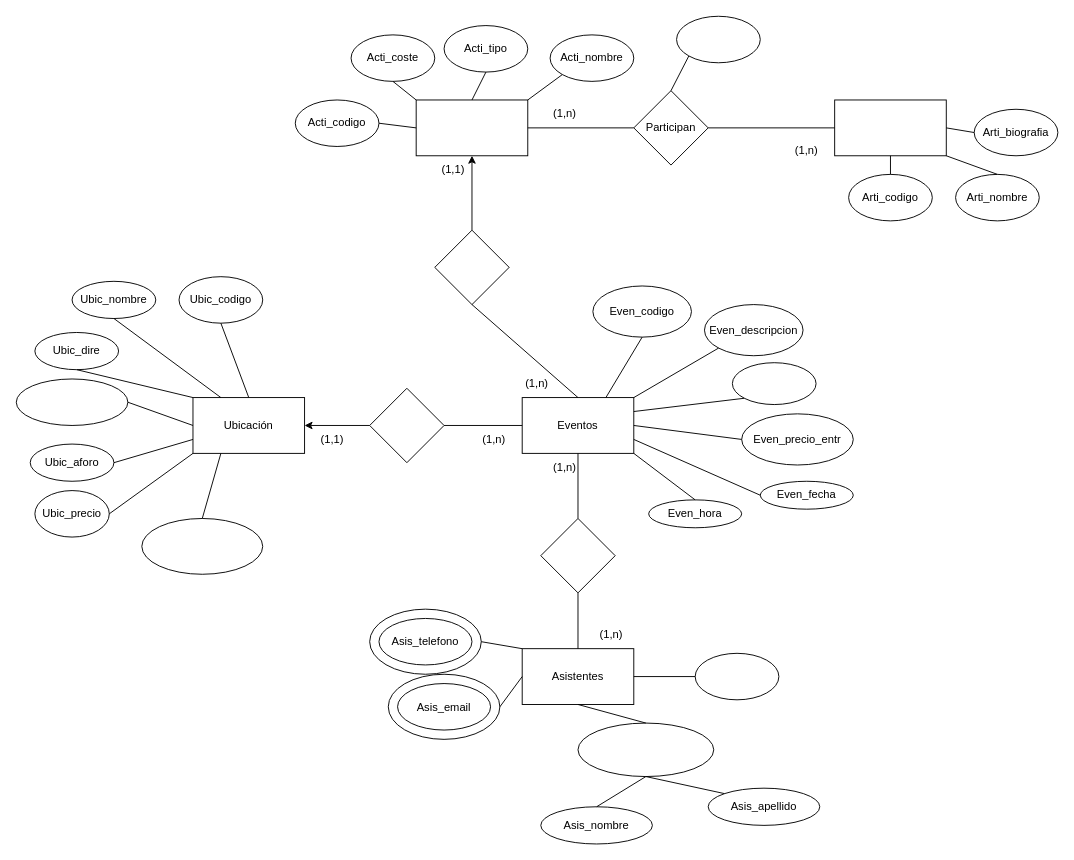
Image size: 1074x860. Some labels were removed from this diagram. The shapes that lost their labels are listed below. From the top down, each one's centre as x and y in pixels, then its label:
At [718,39]: "Part_cache".
At [471,127]: "Actividad".
At [890,127]: "Artista".
At [471,267]: "Realizan".
At [71,401]: "Ubic_ciudad_pueblo".
At [773,383]: "Even_nombre".
At [406,425]: "Tiene".
At [202,546]: "Ubic_caracteristicas".
At [577,555]: "Asistencia".
At [736,676]: "Asis_codigo".
At [645,749]: "Asis_nombreCompelto".
